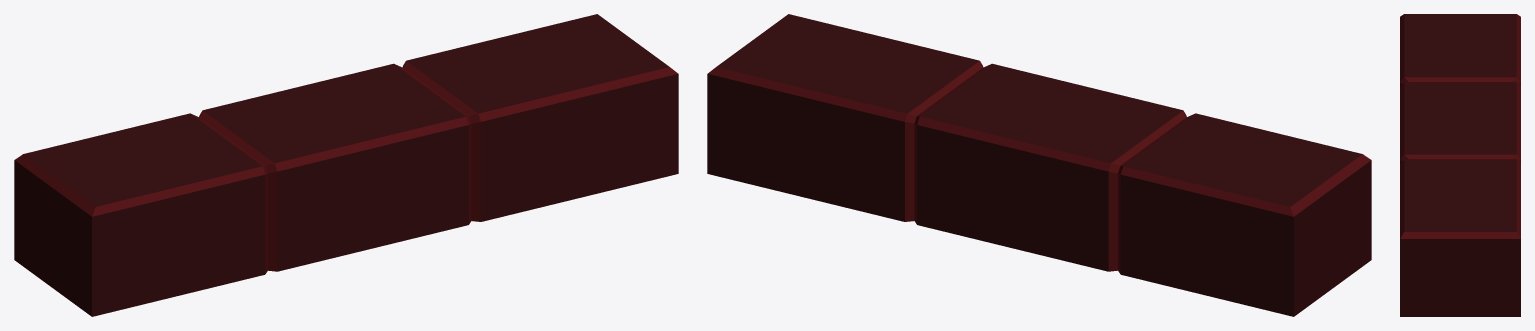
File: Slab_Var1.FBX
3 views of the same model, side by side, from view 1: azimuth 30°, elevation 25°; view 2: azimuth 150°, elevation 25°; view 3: azimuth 270°, elevation 25° (orthographic). The views are drawn at different scales.
Visible parts, largest first — view 1: Box008; view 2: Box008; view 3: Box008.
Boxes of the visible parts, box(x1,y1,x2,y2) form: Box008: box(14, 14, 678, 316); Box008: box(707, 14, 1371, 316); Box008: box(1400, 14, 1520, 316).
Bounding box in the file's own units: 288 × 50 × 66.05.
